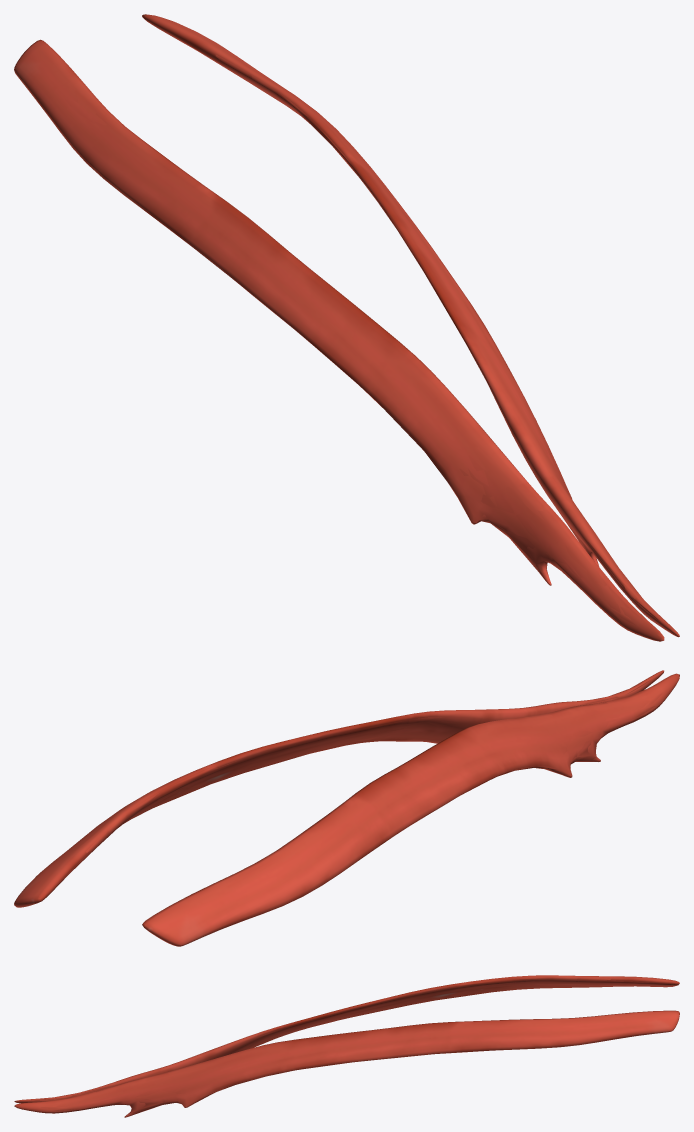
File: Longissimus.fbx
The picture shows the model from 3 angles, top to bottom: view 1: azimuth 30°, elevation 25°; view 2: azimuth 150°, elevation 25°; view 3: azimuth 270°, elevation 25°; orthographic projection. The views are drawn at different scales.
Visible parts, largest first — view 1: Longissimus, Longissimus low; view 2: Longissimus, Longissimus low; view 3: Longissimus, Longissimus low.
Boxes of the visible parts, <box> form: Longissimus: <box>14,14,679,641</box>; Longissimus low: <box>65,30,660,625</box>; Longissimus: <box>14,670,679,946</box>; Longissimus low: <box>59,679,662,895</box>; Longissimus: <box>14,975,679,1117</box>; Longissimus low: <box>34,975,654,1114</box>.
Size of the model in its own units: 13.87 by 12.1 by 63.28.
1 material, 1 textured.
